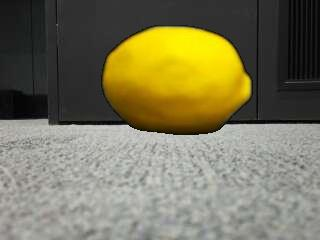lemon: (102, 26, 250, 134)
